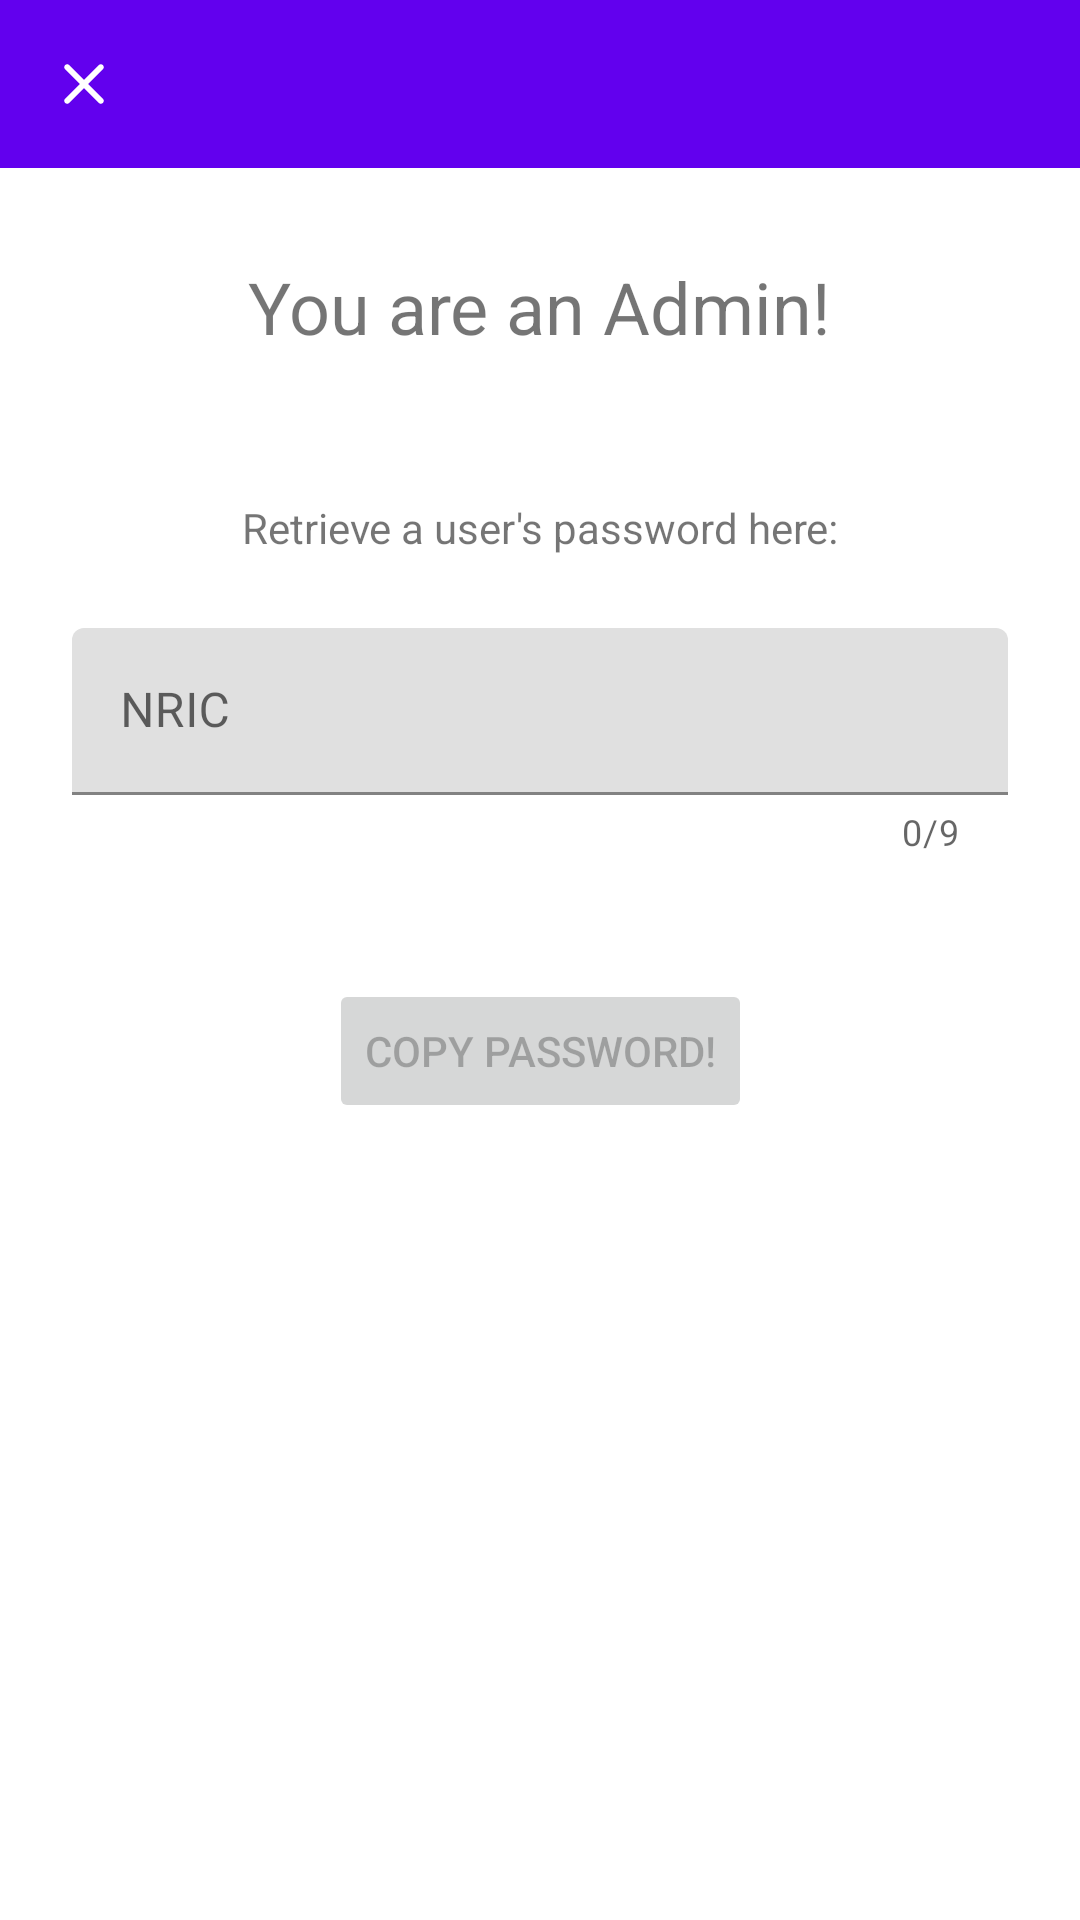

Named icons in this screenshot (1080x1920) and their centers, (x=x, y=y):
close: (x=84, y=84)
